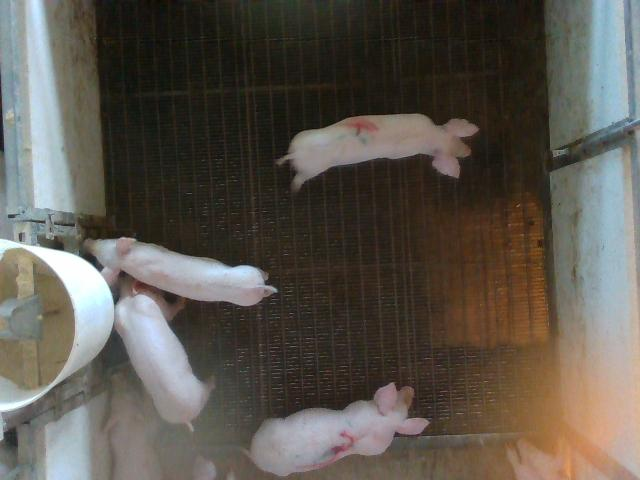pig-3: (250, 382, 429, 476)
pig-4: (276, 114, 479, 191)
